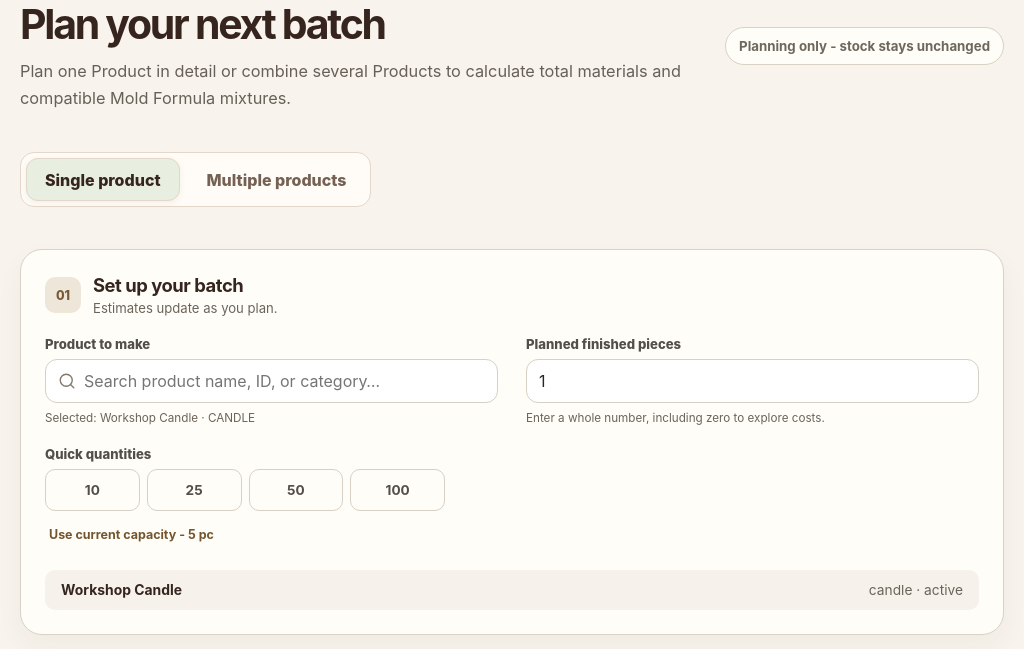
Scenario: production planning interactions › shows shortages, toggles calculations, and only changes quantity on an explicit capacity action
This screenshot has width=1024, height=649.
What coordinates should you click on to do the following:
click the button "25"
I would click on:
 (194, 490)
Its box is [147,469,242,511].
(page scrolled)
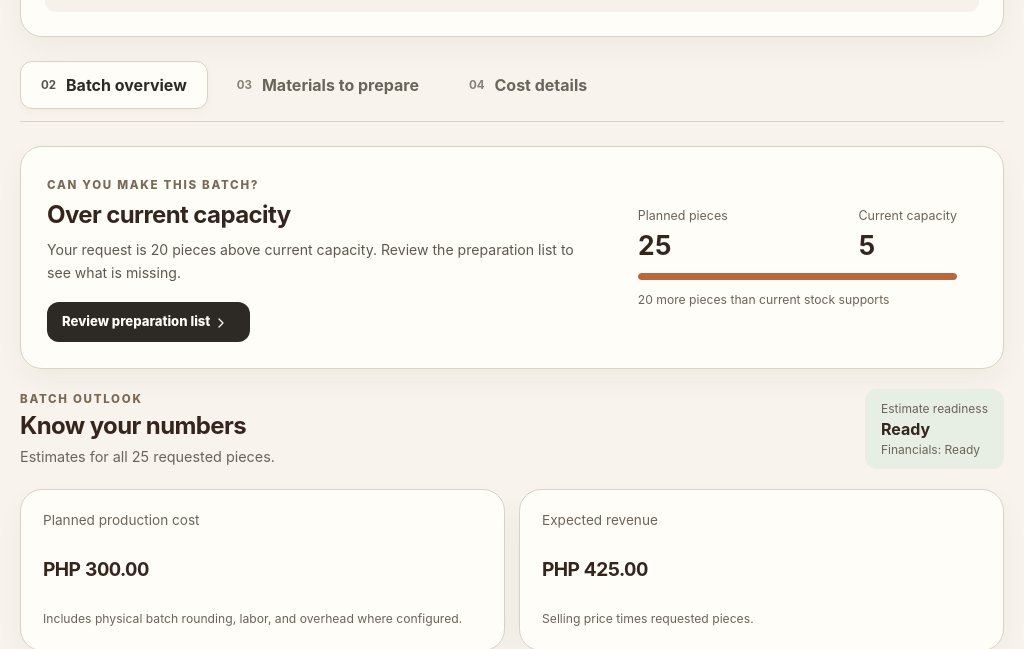
Expected: the element that starts with "CAN YOU MAKE THIS BATCH?" shows "Over current capacity", [47,200,290,229]
Expected: the element that starts with "CAN YOU MAKE THIS BATCH?" shows "20 pieces above current capacity", [47,241,574,281]
What coordinates should you click on to do the following:
click the button "Review preparation list"
I would click on:
 (149, 322)
Its box is [47,302,250,342].
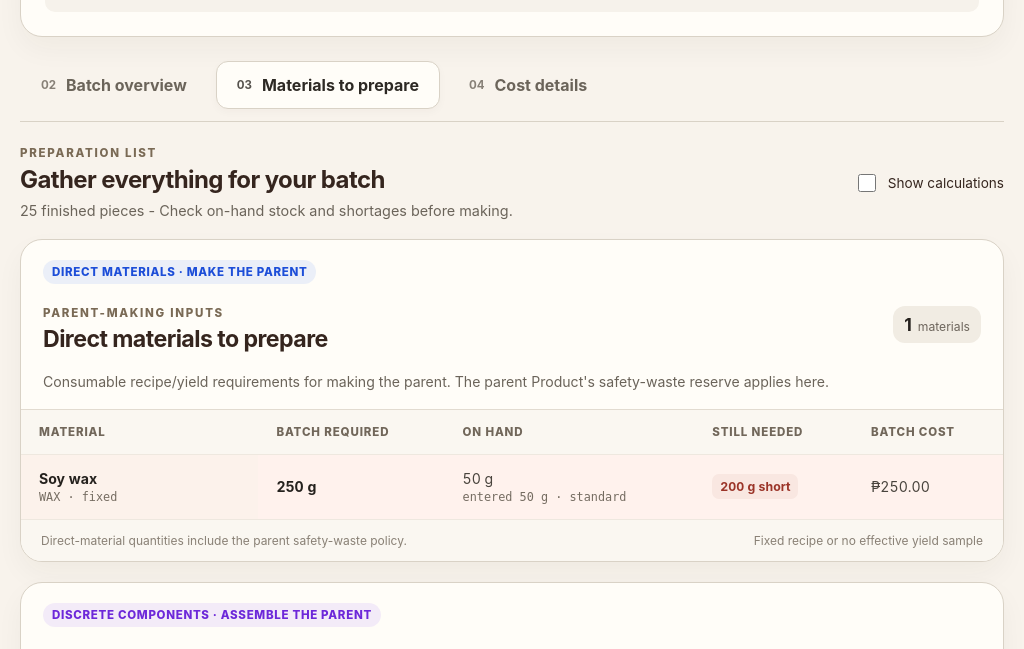
Expected: the number of column headings is 5, [21,410,258,454]; [258,410,445,454]; [445,410,694,454]; [694,410,853,454]; [853,410,1003,454]
Expected: the number of cells is 5, [21,454,258,519]; [258,454,445,519]; [445,454,694,519]; [694,454,853,519]; [853,454,1003,519]
What coordinates should you click on to do the following:
click the checkbox labelled "Show calculations"
I would click on:
 (867, 183)
Its box is [858,174,876,192].
(page scrolled)
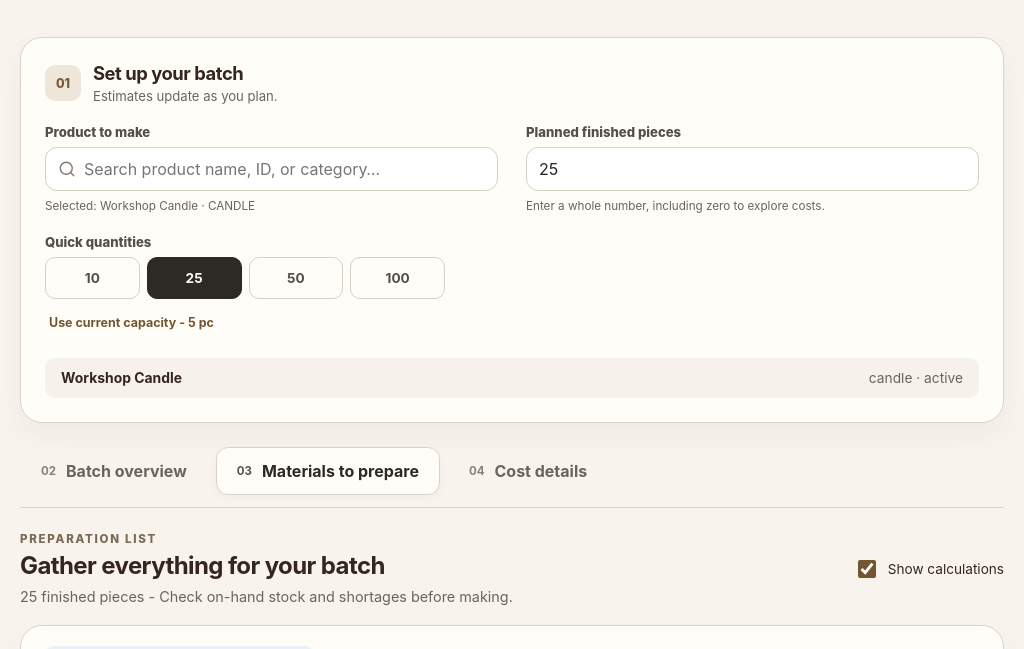
What coordinates should you click on to do the following:
click the button "Use current capacity - 5 pc"
I would click on:
 (113, 322)
Its box is [45,306,979,338].
(page scrolled)
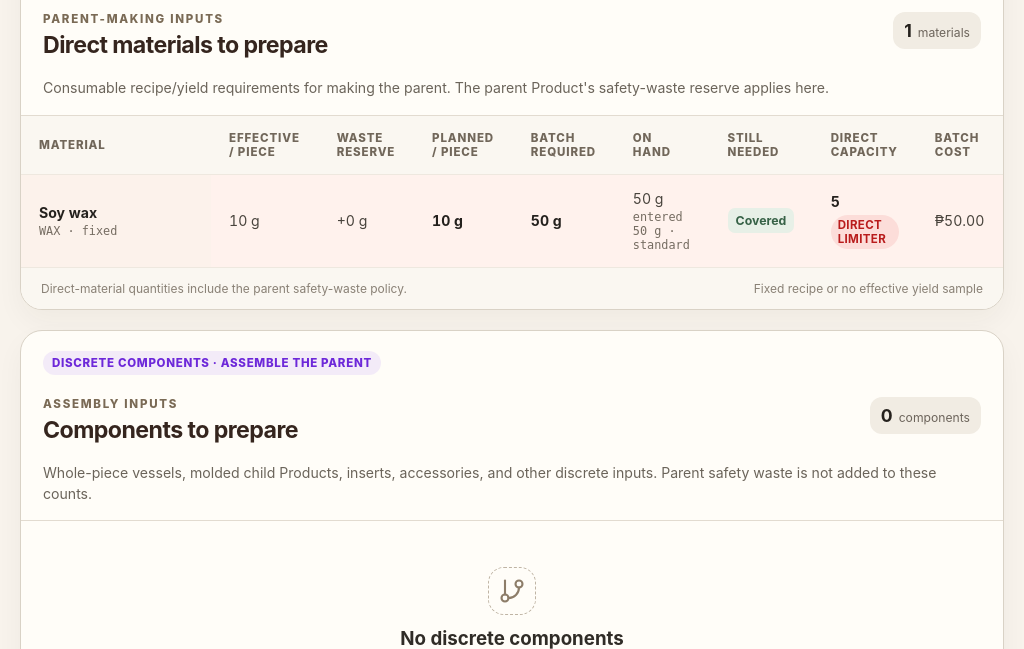
Expected: the element that starts with "PREPARATION LIST" shows "Covered", [736,213,786,228]
